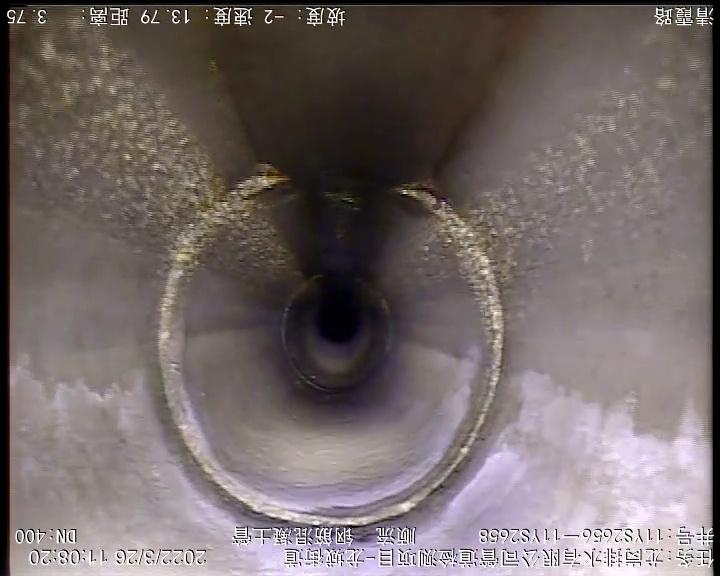CKTJ: (158, 166, 505, 526)
